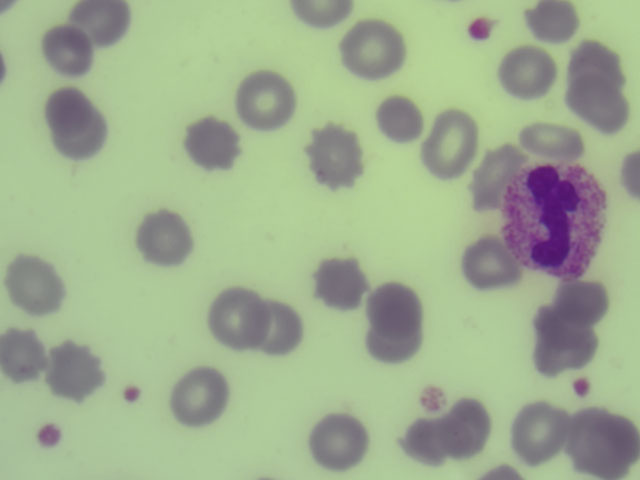Platelets: (469, 20, 493, 42), (424, 387, 443, 411), (42, 425, 61, 445), (576, 378, 589, 393), (123, 389, 139, 401)
RBC: (2, 252, 72, 311), (421, 109, 481, 177), (343, 21, 406, 83), (171, 367, 233, 428), (210, 284, 270, 347), (307, 123, 366, 187), (234, 71, 300, 126), (45, 340, 103, 402), (467, 144, 523, 208), (569, 80, 633, 136), (306, 410, 366, 468), (511, 399, 566, 459), (439, 398, 495, 455), (518, 111, 582, 159), (536, 324, 597, 372), (185, 120, 241, 171), (135, 212, 191, 263), (55, 107, 111, 158), (46, 83, 102, 134), (39, 26, 95, 77), (368, 92, 424, 143), (498, 47, 554, 98), (567, 33, 623, 84), (249, 299, 305, 350), (462, 237, 518, 288), (314, 259, 370, 310), (400, 419, 456, 470), (368, 282, 424, 333), (571, 407, 627, 458), (537, 296, 593, 347), (555, 272, 611, 323), (363, 313, 419, 364), (1, 328, 56, 379), (73, 1, 129, 51), (525, 1, 581, 51), (572, 440, 629, 480), (289, 1, 355, 29), (615, 146, 640, 196), (477, 462, 523, 480)
WBC: (502, 167, 605, 282)
